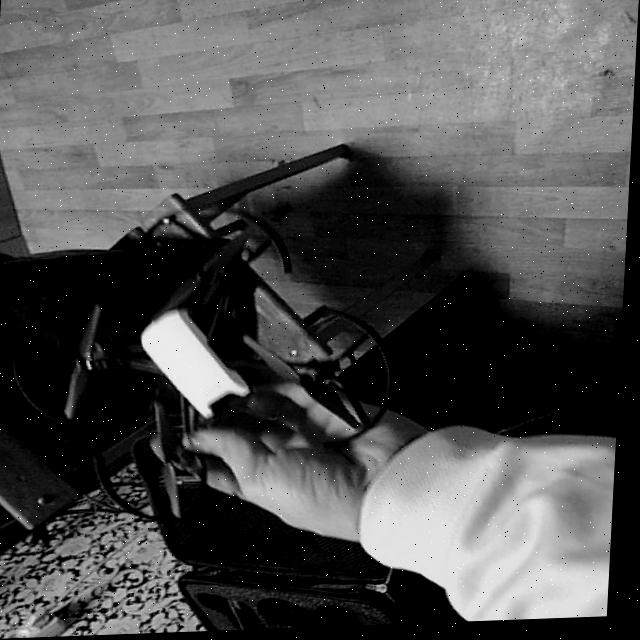drone: (0, 193, 429, 564)
